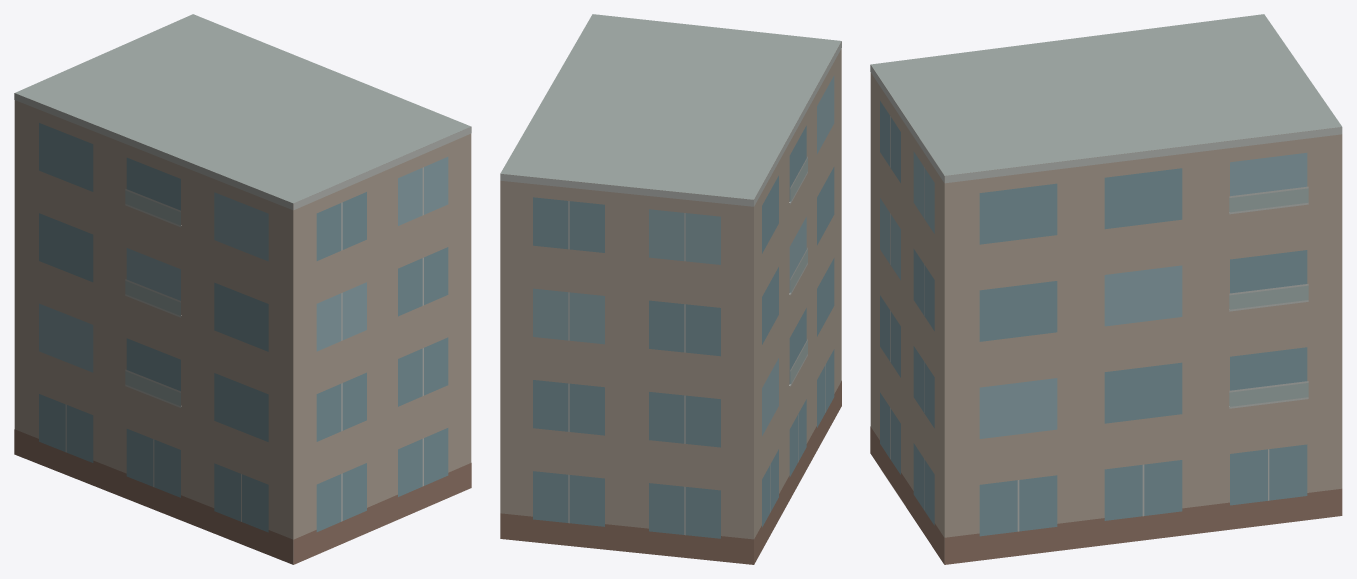
File: survey-upis-33034538.glb
3 views of the same model, side by side, from view 1: azimuth 30°, elevation 25°; view 2: azimuth 150°, elevation 25°; view 3: azimuth 270°, elevation 25° (orthographic). The views are drawn at different scales.
Parts seen in each view (by area): view 1: survey-upis-33034538.tmp; view 2: survey-upis-33034538.tmp; view 3: survey-upis-33034538.tmp.
Boxes of the visible parts, <box> form: survey-upis-33034538.tmp: <box>14,14,471,564</box>; survey-upis-33034538.tmp: <box>500,14,841,564</box>; survey-upis-33034538.tmp: <box>870,14,1342,564</box>.
Size of the model in its own units: 11.39 by 12.75 by 14.03.
